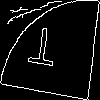T: (25, 25, 59, 77)
